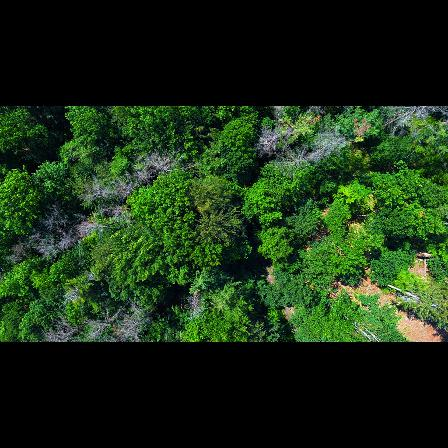Dead: (376, 107, 446, 133), (43, 207, 75, 253), (40, 315, 88, 342), (307, 131, 350, 160), (8, 238, 53, 265), (128, 299, 159, 334), (91, 304, 122, 339), (255, 124, 286, 153), (150, 153, 186, 177), (67, 217, 107, 237), (183, 287, 206, 320), (128, 164, 156, 187), (284, 149, 309, 174), (102, 184, 133, 203)
